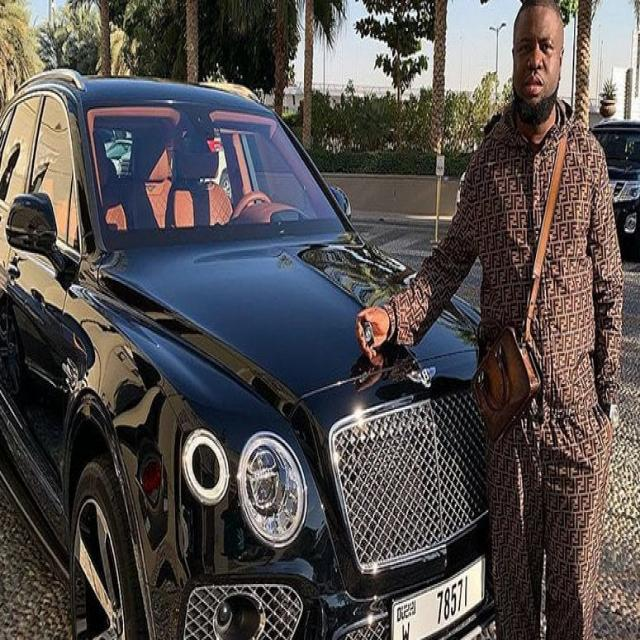car: (4, 64, 447, 636)
person: (486, 0, 630, 639)
